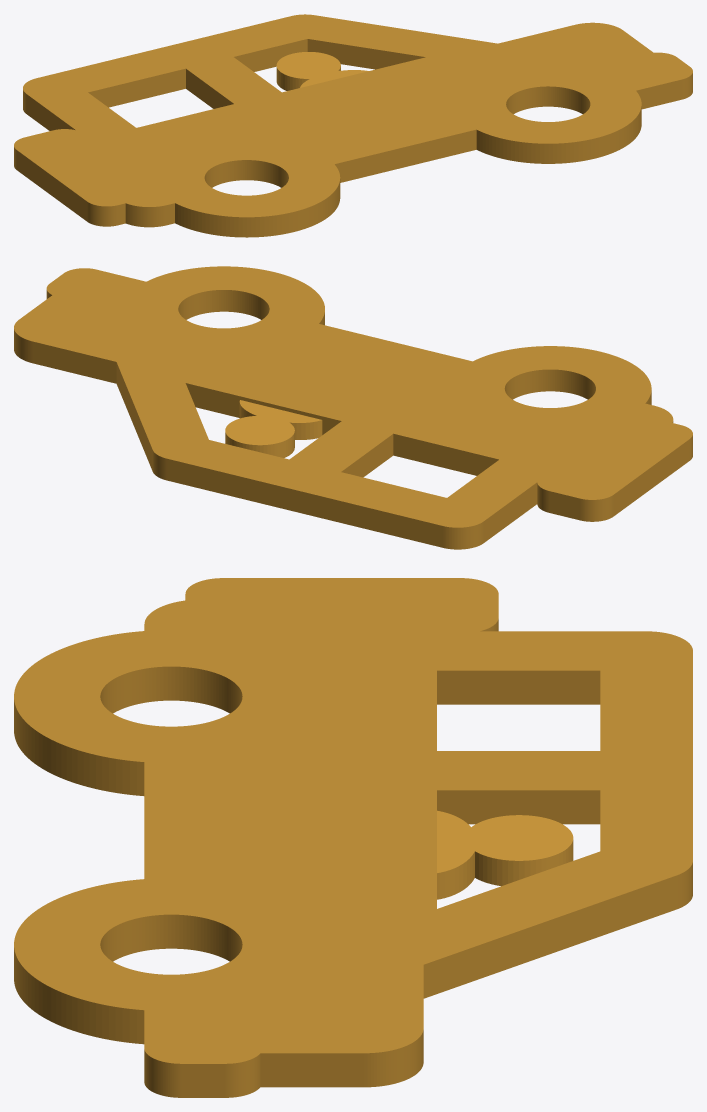
Rendered from drive.glb.
3 renders of one model, top to bottom at view 1: azimuth 30°, elevation 25°; view 2: azimuth 150°, elevation 25°; view 3: azimuth 270°, elevation 25°, orthographic. The views are drawn at different scales.
Visible parts, largest first — view 1: Path, Circle, Circle 1; view 2: Path, Circle, Circle 1; view 3: Path, Circle, Circle 1.
Part boxes in pixels (<box>): Path: <box>14,14,692,237</box>; Circle: <box>276,52,340,90</box>; Circle 1: <box>300,70,368,87</box>; Path: <box>14,266,692,549</box>; Circle: <box>225,416,294,457</box>; Circle 1: <box>239,400,322,439</box>; Path: <box>14,578,692,1097</box>; Circle: <box>465,815,573,886</box>; Circle 1: <box>437,810,476,899</box>.
Bounding box in the file's own units: 0.0525 × 0.00172 × 0.031.
